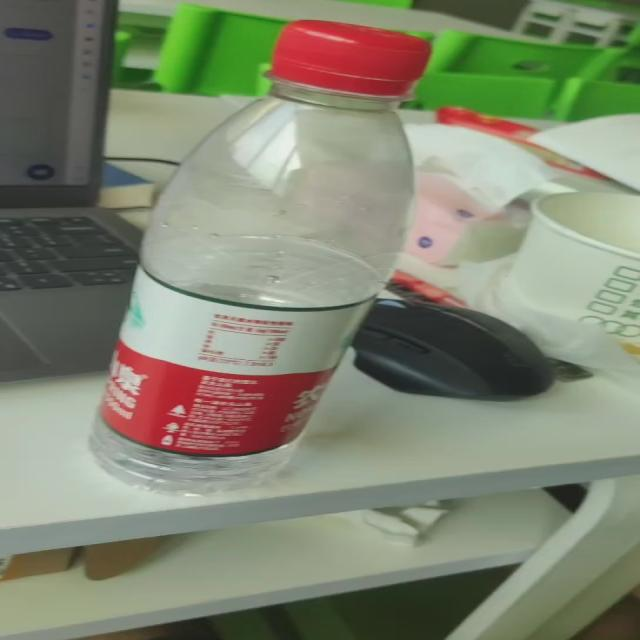plastic: (83, 7, 427, 494)
